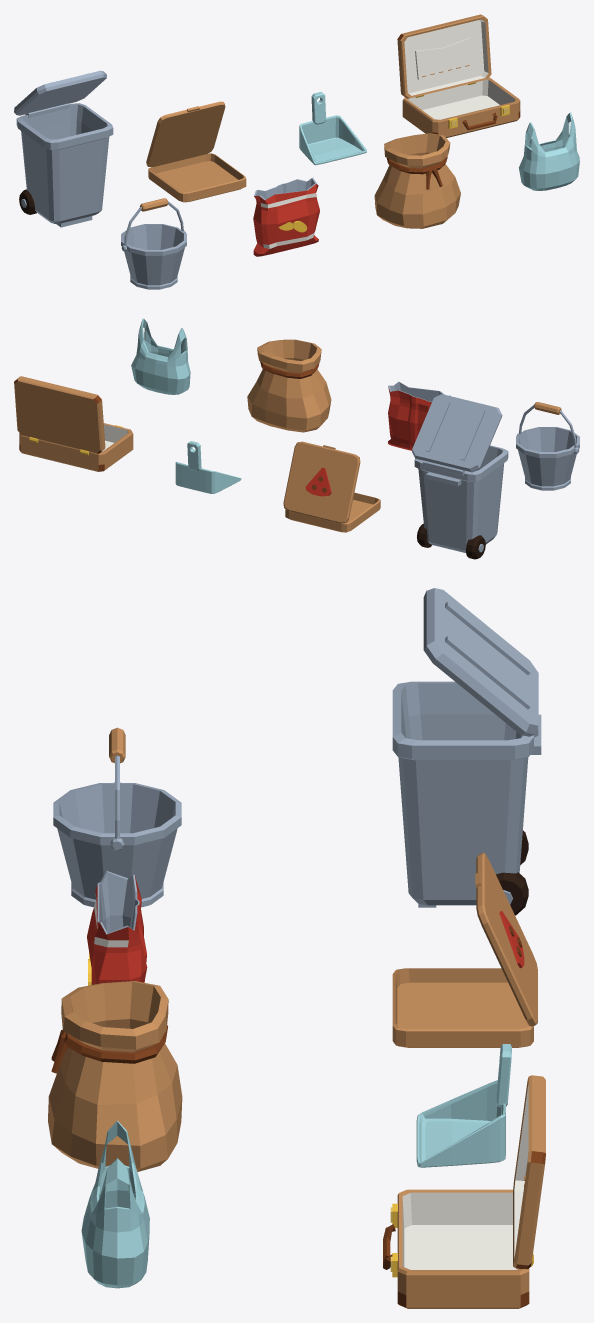
File: SnowStorage.glb
3 views of the same model, one above another, from view 1: azimuth 30°, elevation 25°; view 2: azimuth 150°, elevation 25°; view 3: azimuth 270°, elevation 25° (orthographic). The views are drawn at different scales.
Parts seen in each view (by area): view 1: WheelieBin_Body, Suitcase_Body, PizzaBox_Body, BurlapSack_Body, ChipPacket_Body, MetalPail_Body, PlasticCarrier_Body, Dustpan_Body; view 2: WheelieBin_Body, Suitcase_Body, BurlapSack_Body, PizzaBox_Body, MetalPail_Body, PlasticCarrier_Body, ChipPacket_Body, Dustpan_Body; view 3: WheelieBin_Body, BurlapSack_Body, Suitcase_Body, PizzaBox_Body, MetalPail_Body, PlasticCarrier_Body, Dustpan_Body, ChipPacket_Body.
Boxes of the visible parts, box(x1,y1,x2,y2) form: WheelieBin_Body: box(14, 70, 113, 227); Suitcase_Body: box(397, 14, 520, 137); PizzaBox_Body: box(146, 101, 246, 202); BurlapSack_Body: box(374, 133, 460, 228); ChipPacket_Body: box(253, 177, 319, 256); MetalPail_Body: box(121, 198, 186, 289); PlasticCarrier_Body: box(519, 112, 579, 190); Dustpan_Body: box(299, 92, 366, 165); WheelieBin_Body: box(412, 394, 508, 559); Suitcase_Body: box(14, 376, 133, 471); BurlapSack_Body: box(247, 339, 331, 432); PizzaBox_Body: box(283, 441, 380, 532); MetalPail_Body: box(516, 402, 579, 490); PlasticCarrier_Body: box(131, 318, 190, 394); ChipPacket_Body: box(388, 381, 450, 450); Dustpan_Body: box(175, 441, 241, 493); WheelieBin_Body: box(392, 588, 541, 915); BurlapSack_Body: box(48, 981, 182, 1171); Suitcase_Body: box(383, 1075, 545, 1308); PizzaBox_Body: box(392, 852, 537, 1047); MetalPail_Body: box(53, 727, 181, 907); PlasticCarrier_Body: box(81, 1120, 149, 1288); Dustpan_Body: box(416, 1044, 511, 1167); ChipPacket_Body: box(87, 870, 147, 985).
Size of the model in its own units: 4.32 by 1.24 by 2.02.
Materials: 1 (1 with a texture image).
